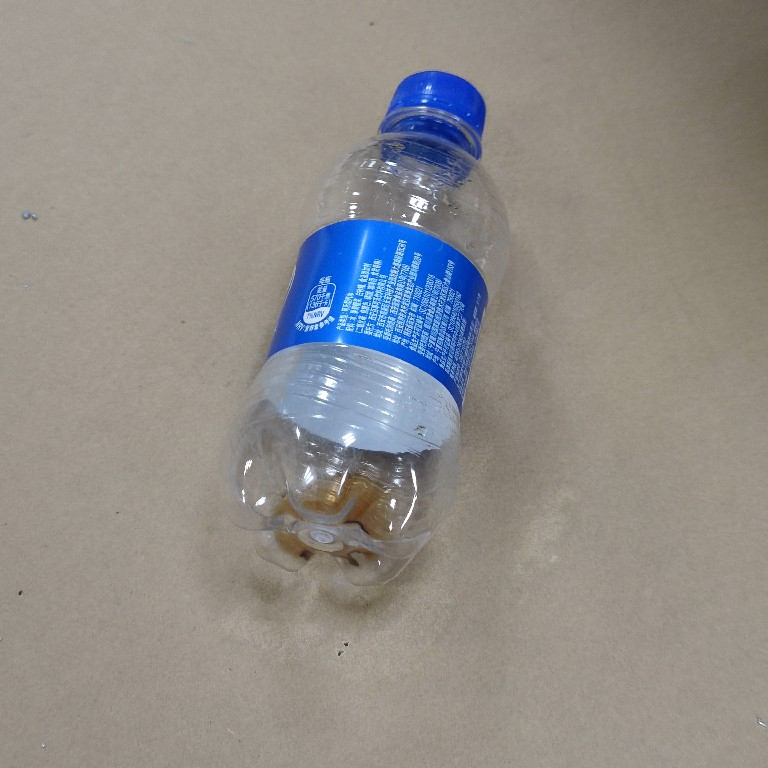bottle: (217, 67, 518, 597)
